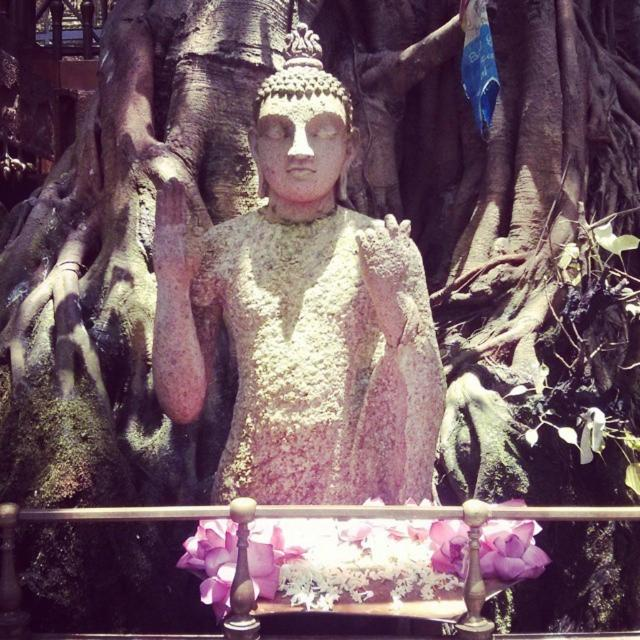Flower: (172, 496, 462, 630), (476, 498, 550, 584), (430, 520, 490, 580)
